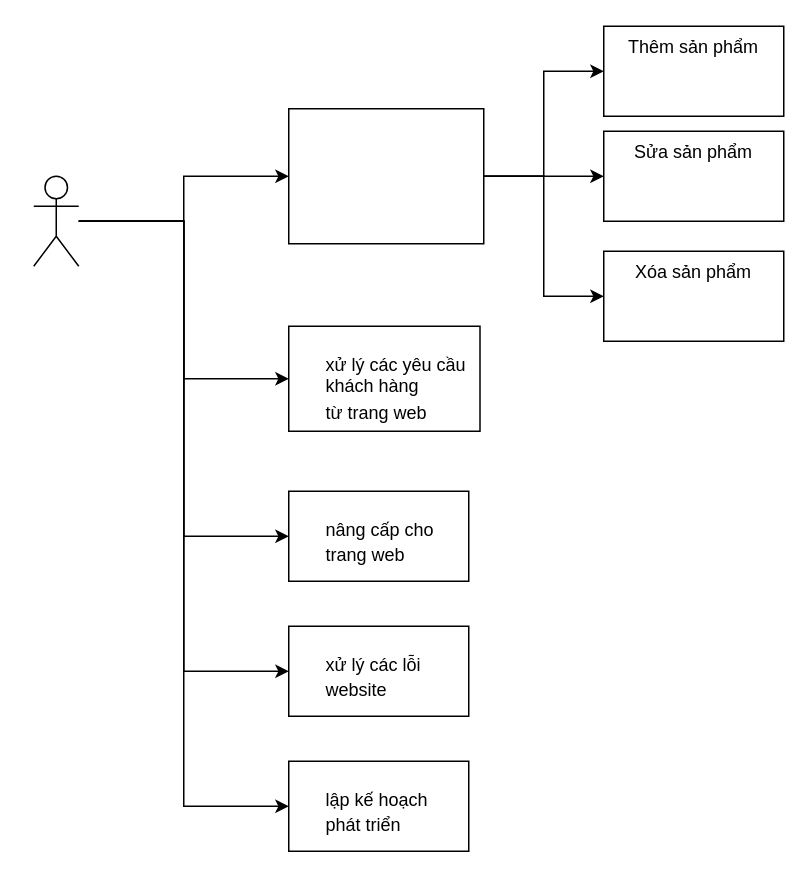
This 810x882 diagram has some shape labels left out. Each missing label, with the centre of its shape:
chuẩn bị nội dung và cập nhật: point 385,175
quản trị: point 55,220
